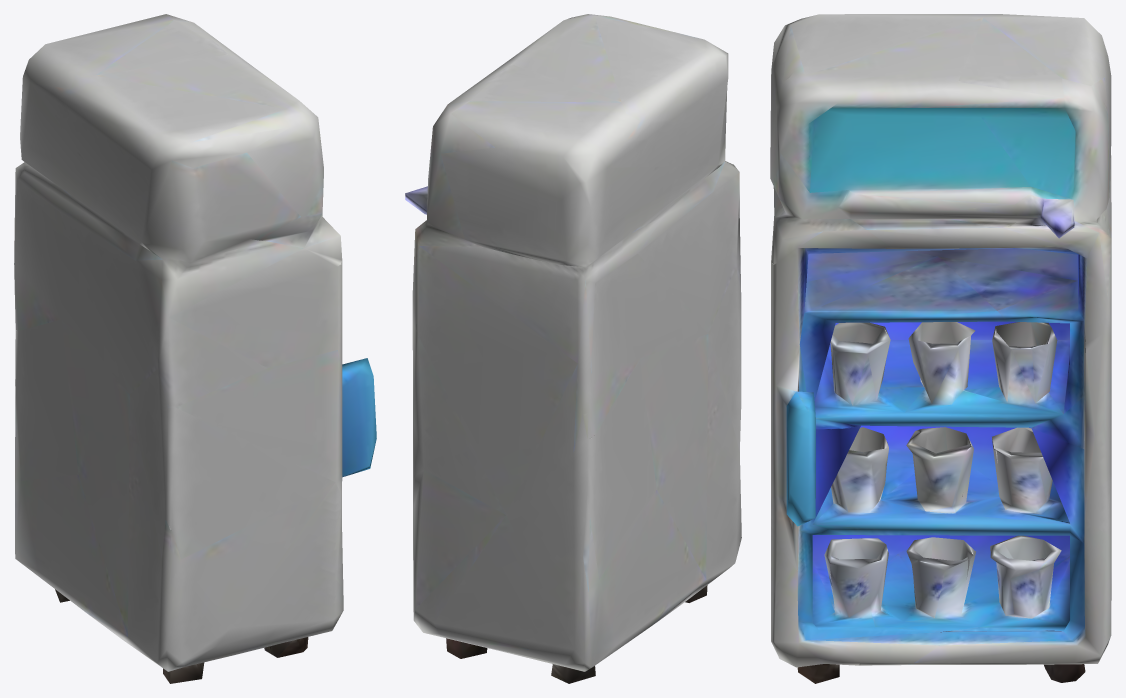
Rendered from ayran.glb.
3 views of the same model, side by side, from view 1: azimuth 30°, elevation 25°; view 2: azimuth 150°, elevation 25°; view 3: azimuth 270°, elevation 25° (orthographic). The views are drawn at different scales.
Parts seen in each view (by area): view 1: tripo_node_4e7f26b5-10a5-45b6-81da-556e521c4251; view 2: tripo_node_4e7f26b5-10a5-45b6-81da-556e521c4251; view 3: tripo_node_4e7f26b5-10a5-45b6-81da-556e521c4251.
Boxes of the visible parts, x1,y1,x2,y2 form: tripo_node_4e7f26b5-10a5-45b6-81da-556e521c4251: (14, 14, 376, 683); tripo_node_4e7f26b5-10a5-45b6-81da-556e521c4251: (405, 14, 741, 683); tripo_node_4e7f26b5-10a5-45b6-81da-556e521c4251: (770, 14, 1111, 683).
Size of the model in its own units: 0.4167 by 1 by 0.52.
1 material, 1 textured.
